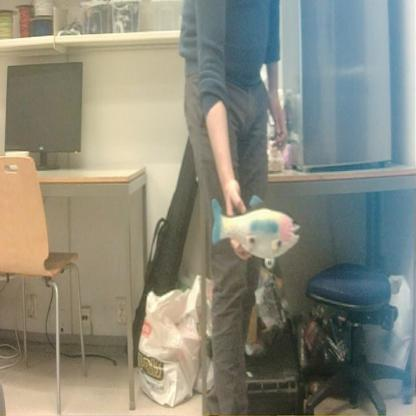rubberfish: (207, 188, 304, 271)
